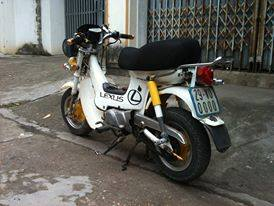bien_so: (187, 83, 222, 119)
